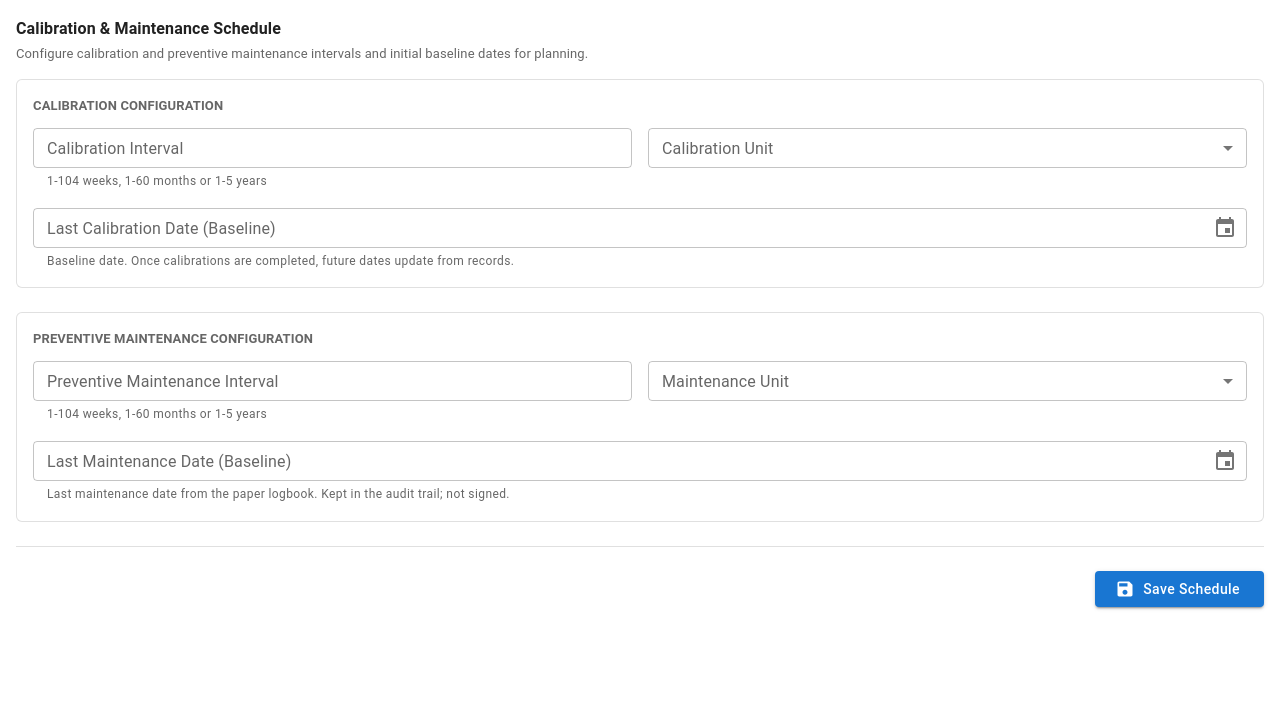
EquipmentScheduleSection › blocks save when value set without unit
Type "6" into the number field labelled "Calibration Interval" at x=332, y=148, box [33,128,632,168]
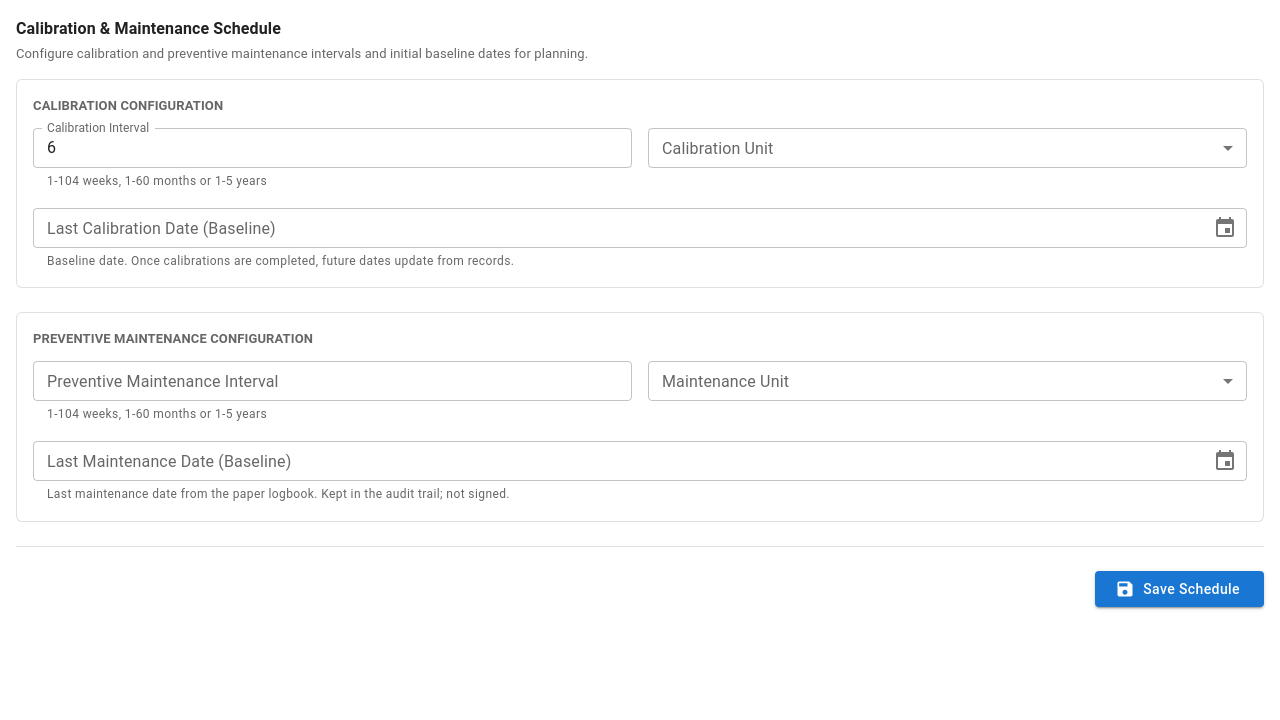
Click the button "Save Schedule" at x=1180, y=589, box [1095,571,1264,607]
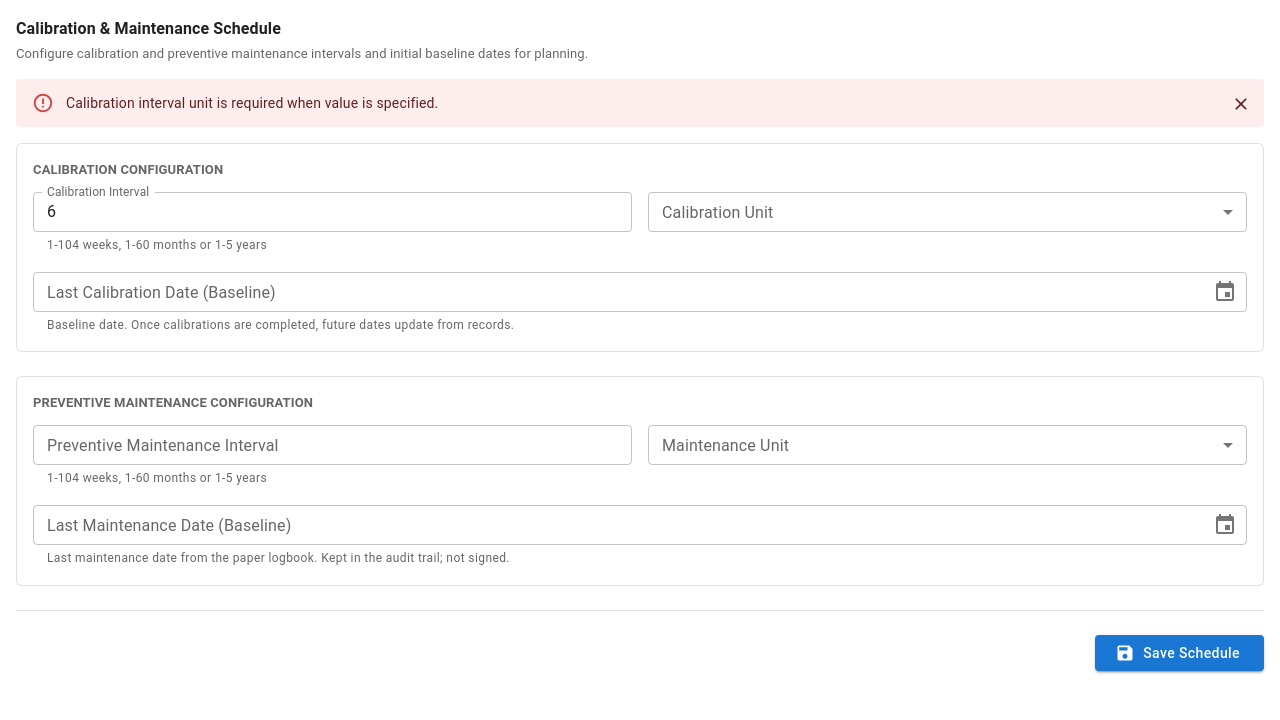
Check: the text "Calibration interval unit is required when value is specified" is shown, box [66,95,438,111]
